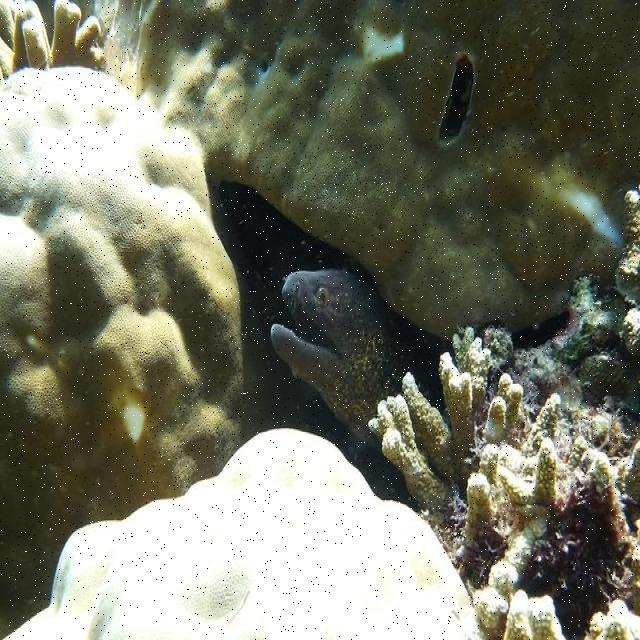fish: (266, 268, 442, 451)
reefs: (0, 1, 639, 639), (366, 188, 639, 639), (0, 426, 488, 639), (1, 1, 109, 88)
